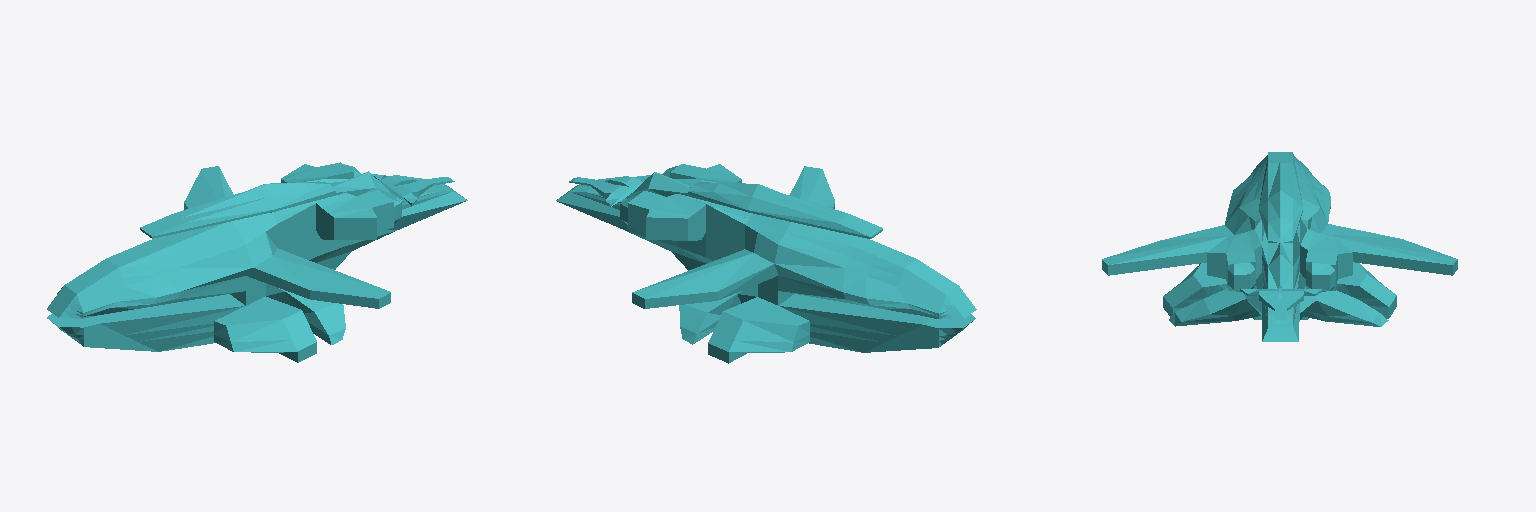
The picture shows the model from 3 angles: view 1: azimuth 30°, elevation 25°; view 2: azimuth 150°, elevation 25°; view 3: azimuth 270°, elevation 25°; orthographic projection.
Parts seen in each view (by area): view 1: 立方体; view 2: 立方体; view 3: 立方体.
Part boxes in pixels (left/top/right/bottom): 立方体: left=47, top=162, right=467, bottom=362; 立方体: left=556, top=164, right=976, bottom=363; 立方体: left=1102, top=152, right=1457, bottom=341.
Size of the model in its own units: 17.78 by 5.83 by 13.5.
Materials: 1 (1 with a texture image).